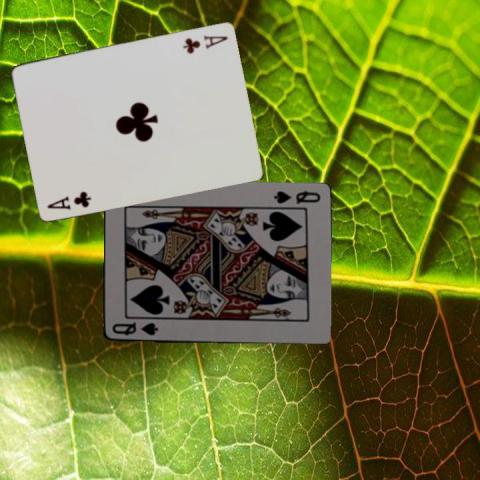Ac: (44, 188, 93, 211), (180, 32, 229, 54)
Qs: (109, 319, 159, 338), (271, 188, 322, 206)
